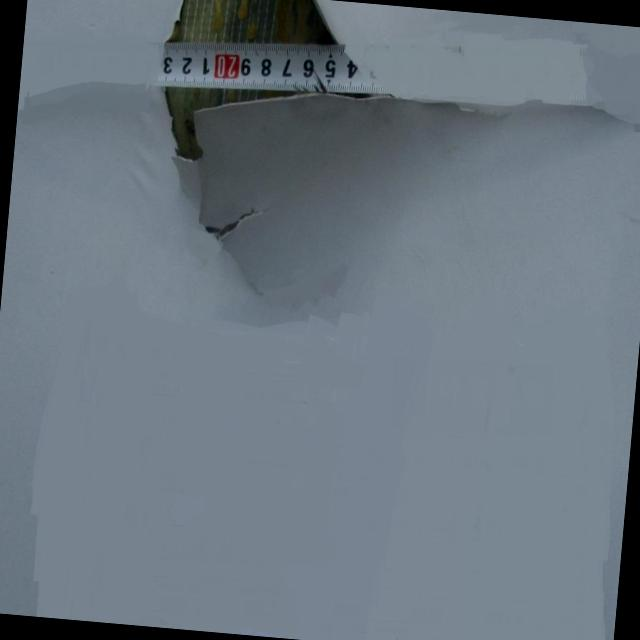crack: (117, 0, 452, 258)
